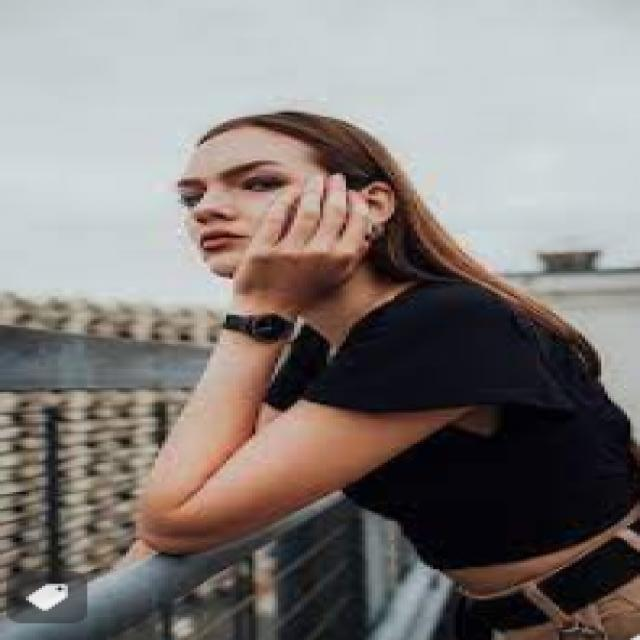Watch: (220, 303, 298, 347)
